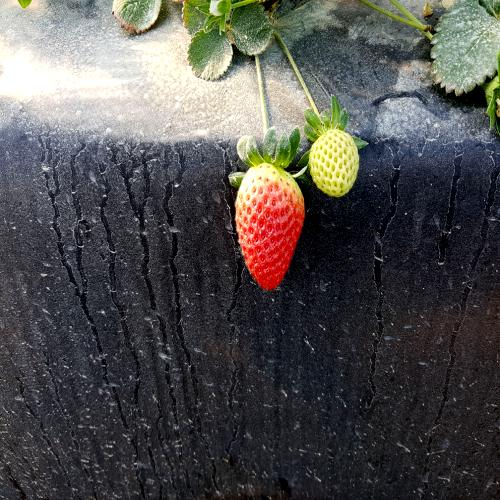partially-ripe: (226, 157, 310, 295)
unripe: (306, 117, 364, 202)
